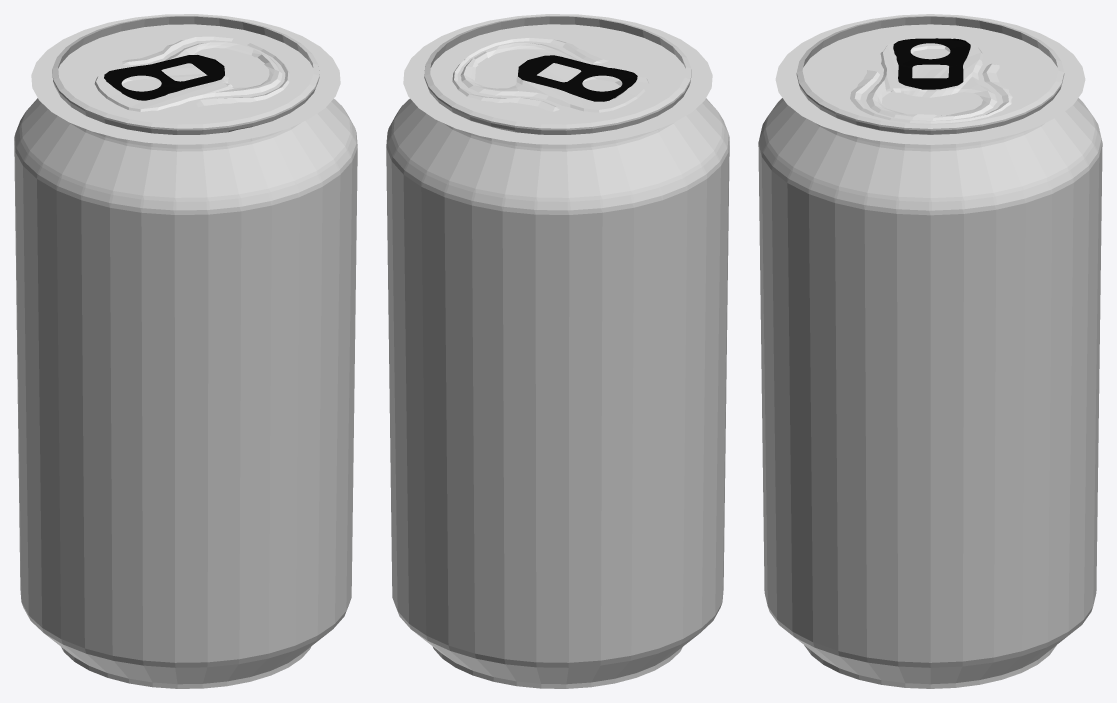
File: fanta.glb
3 renders of one model, left to right at view 1: azimuth 30°, elevation 25°; view 2: azimuth 150°, elevation 25°; view 3: azimuth 270°, elevation 25°, orthographic.
Visible parts, largest first — view 1: Can, Lid, tab; view 2: Can, Lid, tab; view 3: Can, Lid, tab.
Part boxes in pixels (x1,y1,x2,y2): Can: [14, 16, 357, 688]; Lid: [31, 14, 340, 144]; tab: [104, 55, 224, 100]; Can: [386, 16, 729, 688]; Lid: [403, 14, 712, 144]; tab: [518, 55, 637, 101]; Can: [758, 16, 1102, 688]; Lid: [775, 14, 1085, 144]; tab: [893, 38, 970, 89].
Size of the model in its own units: 2.64 by 4.77 by 2.64.
3 materials, 1 textured.
